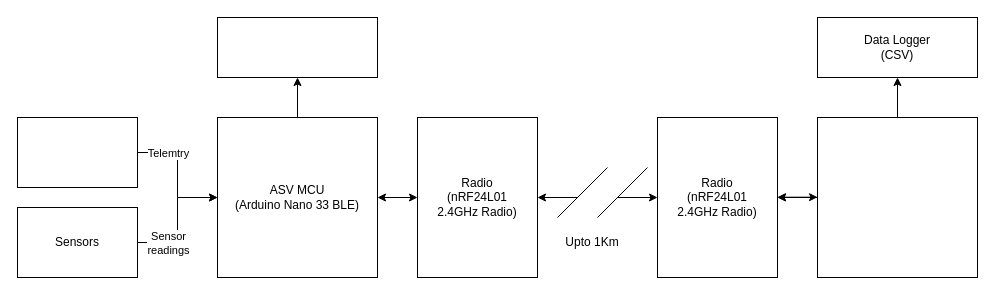
Some shapes in this 995 by 295 pixel diagram are drawn without their labels. The shapes that lost their labels are listed below. From the top down, each one's box as (x1, y1, x2, y2) in pixels, then its label:
(216, 16, 378, 78): Control Unit
(16, 116, 138, 188): GPS Module
(816, 116, 978, 278): Ground MCU (Arduino Nano 33 BLE)
